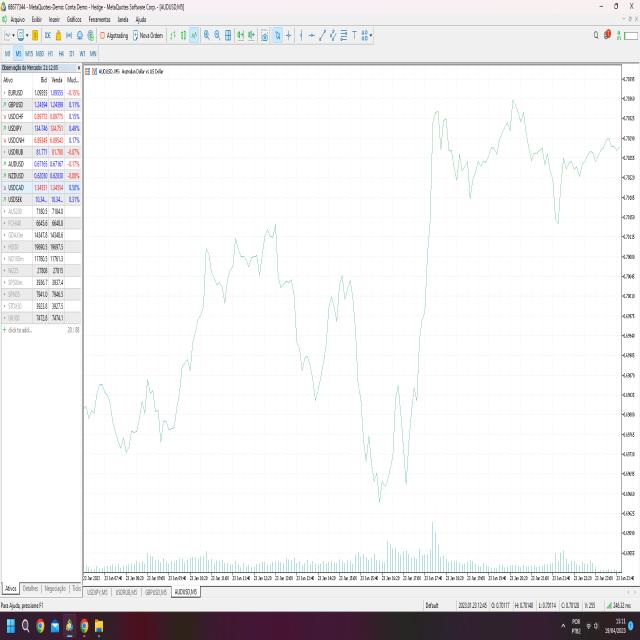fundo_duplo: (343, 357, 433, 526)
oco: (314, 239, 370, 368)
